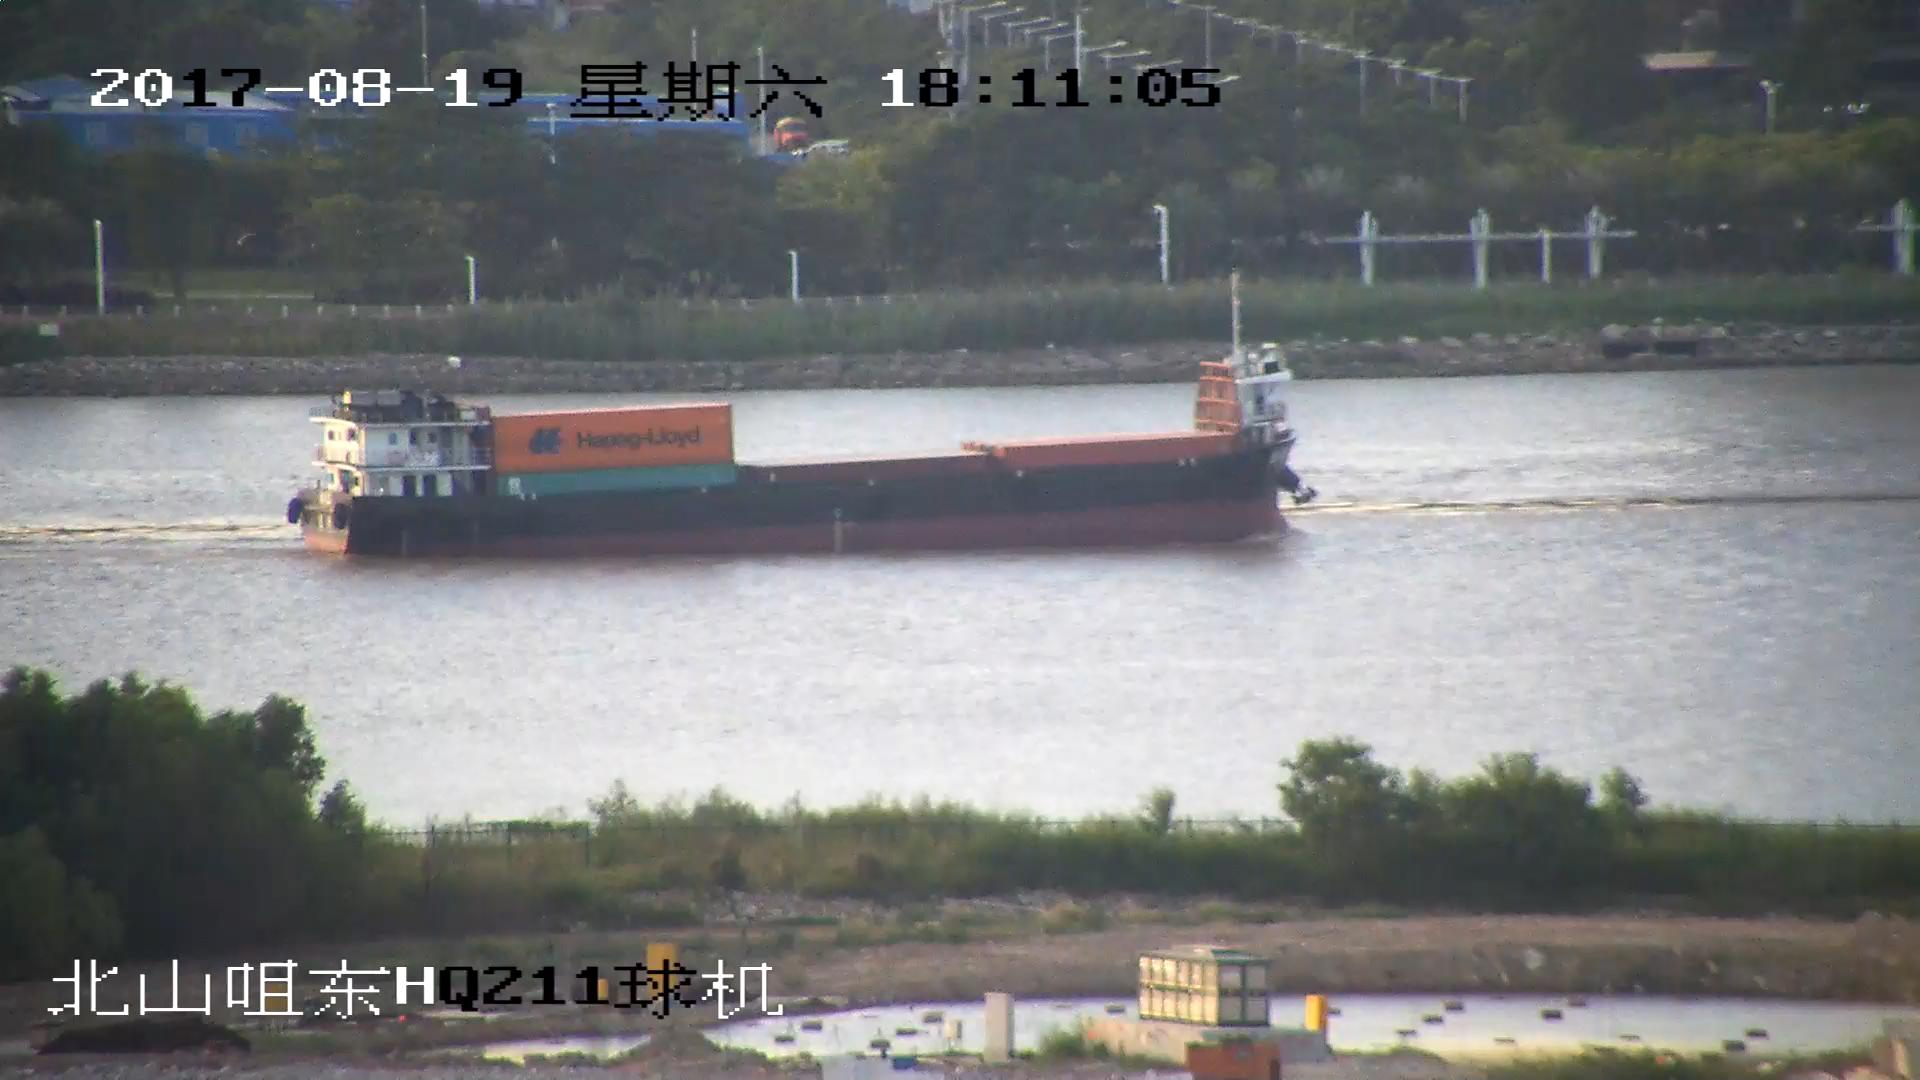container ship: (288, 275, 1308, 565)
